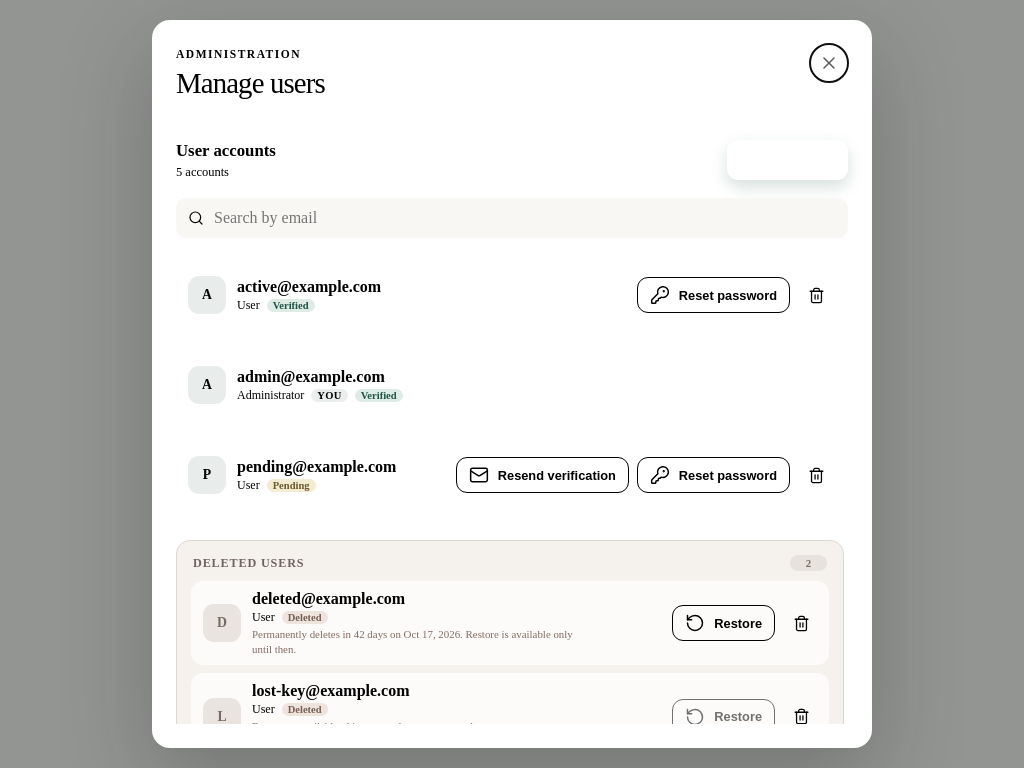
Test case: UserManagementDialog deleted users › moves a soft-deleted account into the deleted group instead of removing it
The width and height of the screenshot is (1024, 768).
Expected: the text "active@example.com" is shown, [237,278,381,296]
What coordinates should you click on to do the following:
click the button named "Delete active@example.com"
I would click on:
 (816, 295)
Its box is [798,277,834,313].
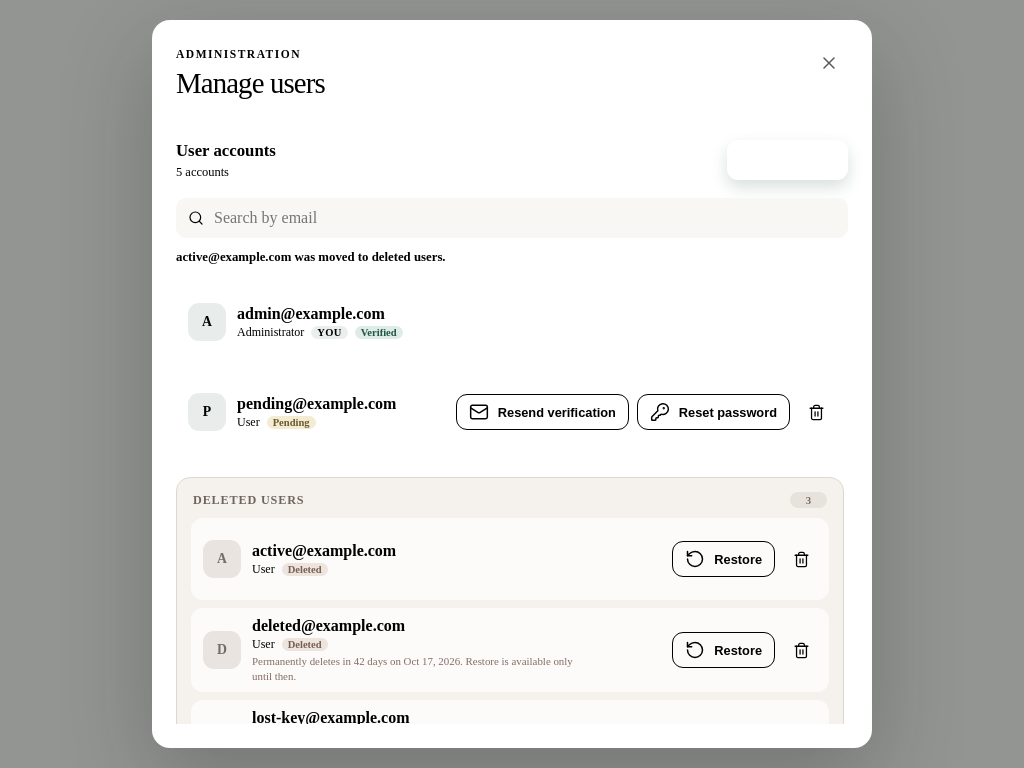
Expected: the text "active@example.com" is shown, [252,542,396,560]
Result: the text "active@example.com was moved to deleted users." is shown at [176,250,446,264]
